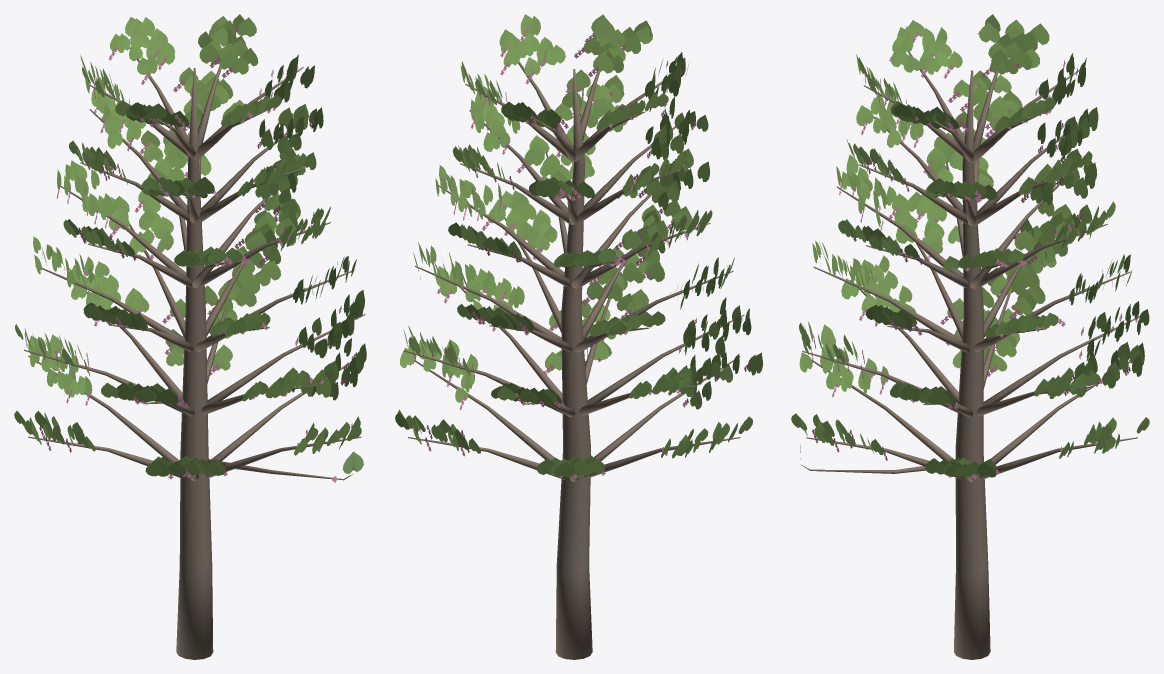
File: eastern_redbud_hybrid.glb
3 renders of one model, left to right at view 1: azimuth 30°, elevation 25°; view 2: azimuth 150°, elevation 25°; view 3: azimuth 270°, elevation 25°, orthographic.
Parts seen in each view (by area): view 1: RedbudLeafCanopy, RedbudTrunkAndBranches, RedbudFlowerClusters; view 2: RedbudLeafCanopy, RedbudTrunkAndBranches, RedbudFlowerClusters; view 3: RedbudLeafCanopy, RedbudTrunkAndBranches, RedbudFlowerClusters.
Part boxes in pixels (x1=…): RedbudLeafCanopy: x1=14, y1=14, x2=366, y2=476; RedbudTrunkAndBranches: x1=24, y1=44, x2=365, y2=659; RedbudFlowerClusters: x1=24, y1=27, x2=356, y2=479; RedbudLeafCanopy: x1=395, y1=14, x2=762, y2=477; RedbudTrunkAndBranches: x1=404, y1=61, x2=744, y2=659; RedbudFlowerClusters: x1=413, y1=27, x2=750, y2=479; RedbudLeafCanopy: x1=791, y1=14, x2=1149, y2=477; RedbudTrunkAndBranches: x1=801, y1=51, x2=1139, y2=659; RedbudFlowerClusters: x1=810, y1=31, x2=1146, y2=479.
Size of the model in its own units: 2.63 by 4.45 by 2.44.
